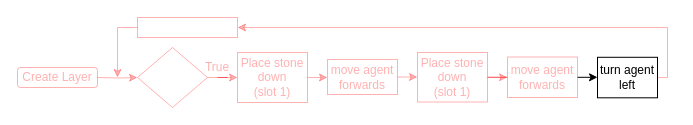
This 693x125 diagram has some shape labels left out. The shapes that lost their labels are listed below. From the top down, each one's centre as x and y in pixels, then its label:
At point 187,27: "sides = sides + 1".
At point 172,77: "sides < 4?".
